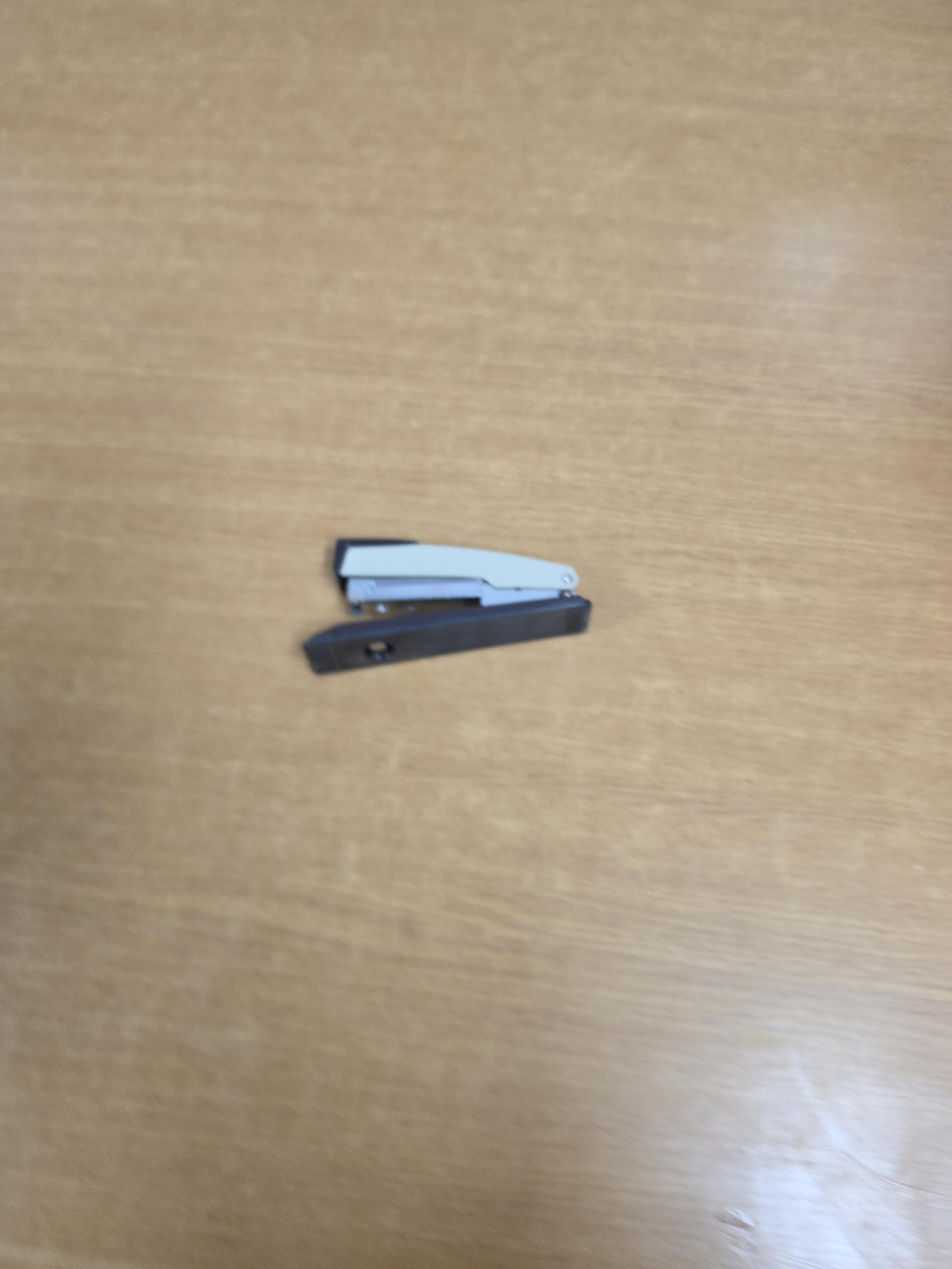stapler: (301, 534, 594, 676)
